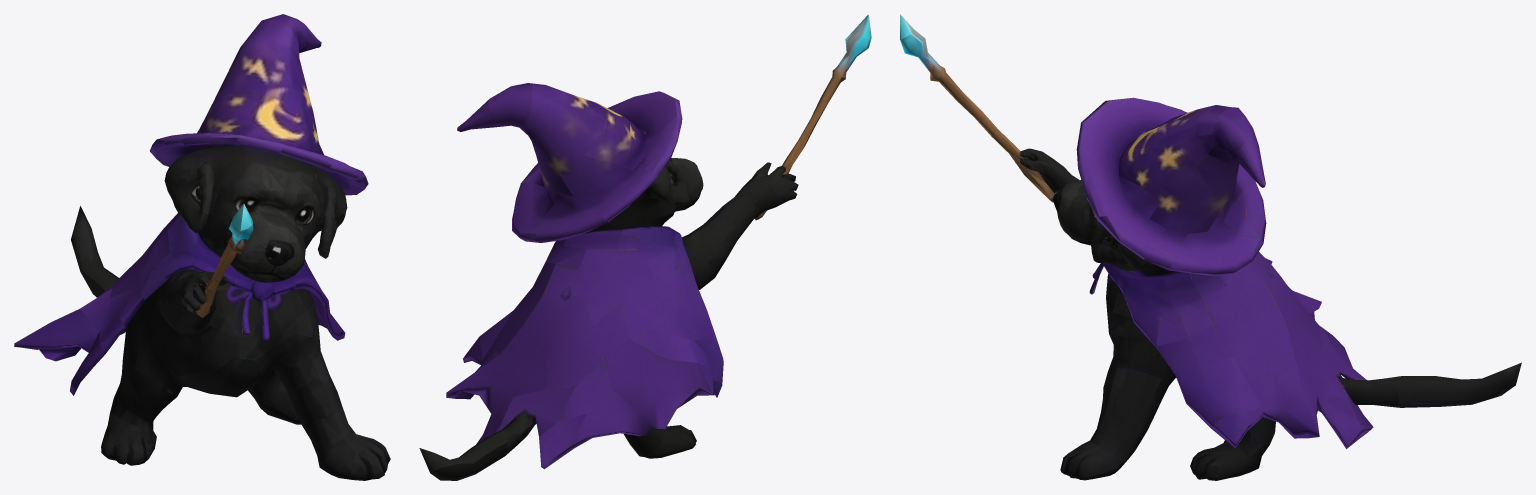
Rendered from หมงหมง.glb.
3 renders of one model, left to right at view 1: azimuth 30°, elevation 25°; view 2: azimuth 150°, elevation 25°; view 3: azimuth 270°, elevation 25°, orthographic. The views are drawn at different scales.
Visible parts, largest first — view 1: mesh_node; view 2: mesh_node; view 3: mesh_node.
Boxes of the visible parts, left/top/right/bottom form: mesh_node: left=14, top=14, right=390, bottom=480; mesh_node: left=419, top=14, right=871, bottom=480; mesh_node: left=900, top=14, right=1521, bottom=480.
Size of the model in its own units: 0.5254 by 0.6426 by 1.
Materials: 1 (1 with a texture image).
